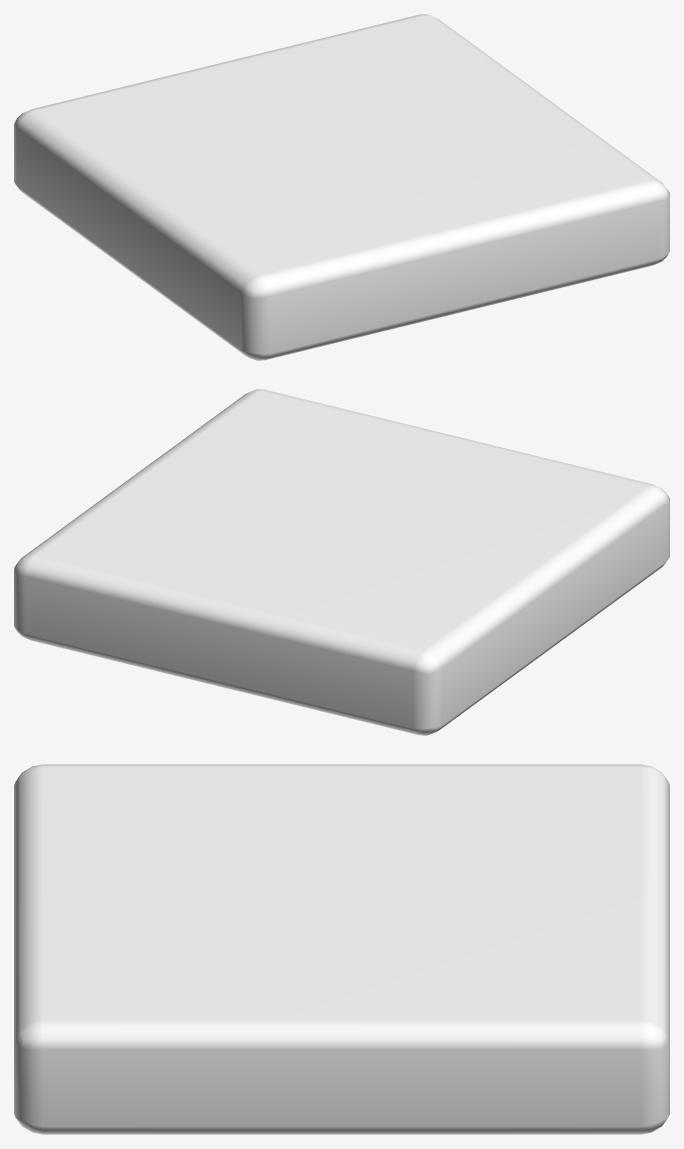
File: White_Box3.fbx
The picture shows the model from 3 angles, top to bottom: view 1: azimuth 30°, elevation 25°; view 2: azimuth 150°, elevation 25°; view 3: azimuth 270°, elevation 25°; orthographic projection. The views are drawn at different scales.
Visible parts, largest first — view 1: White_Box3; view 2: White_Box3; view 3: White_Box3.
Part boxes in pixels (box(x1,y1,x2,y2)): White_Box3: box(14, 14, 669, 360); White_Box3: box(14, 389, 669, 735); White_Box3: box(14, 764, 669, 1134).
Bounding box in the file's own units: 124 × 23.27 × 124.
1 material, 1 textured.
